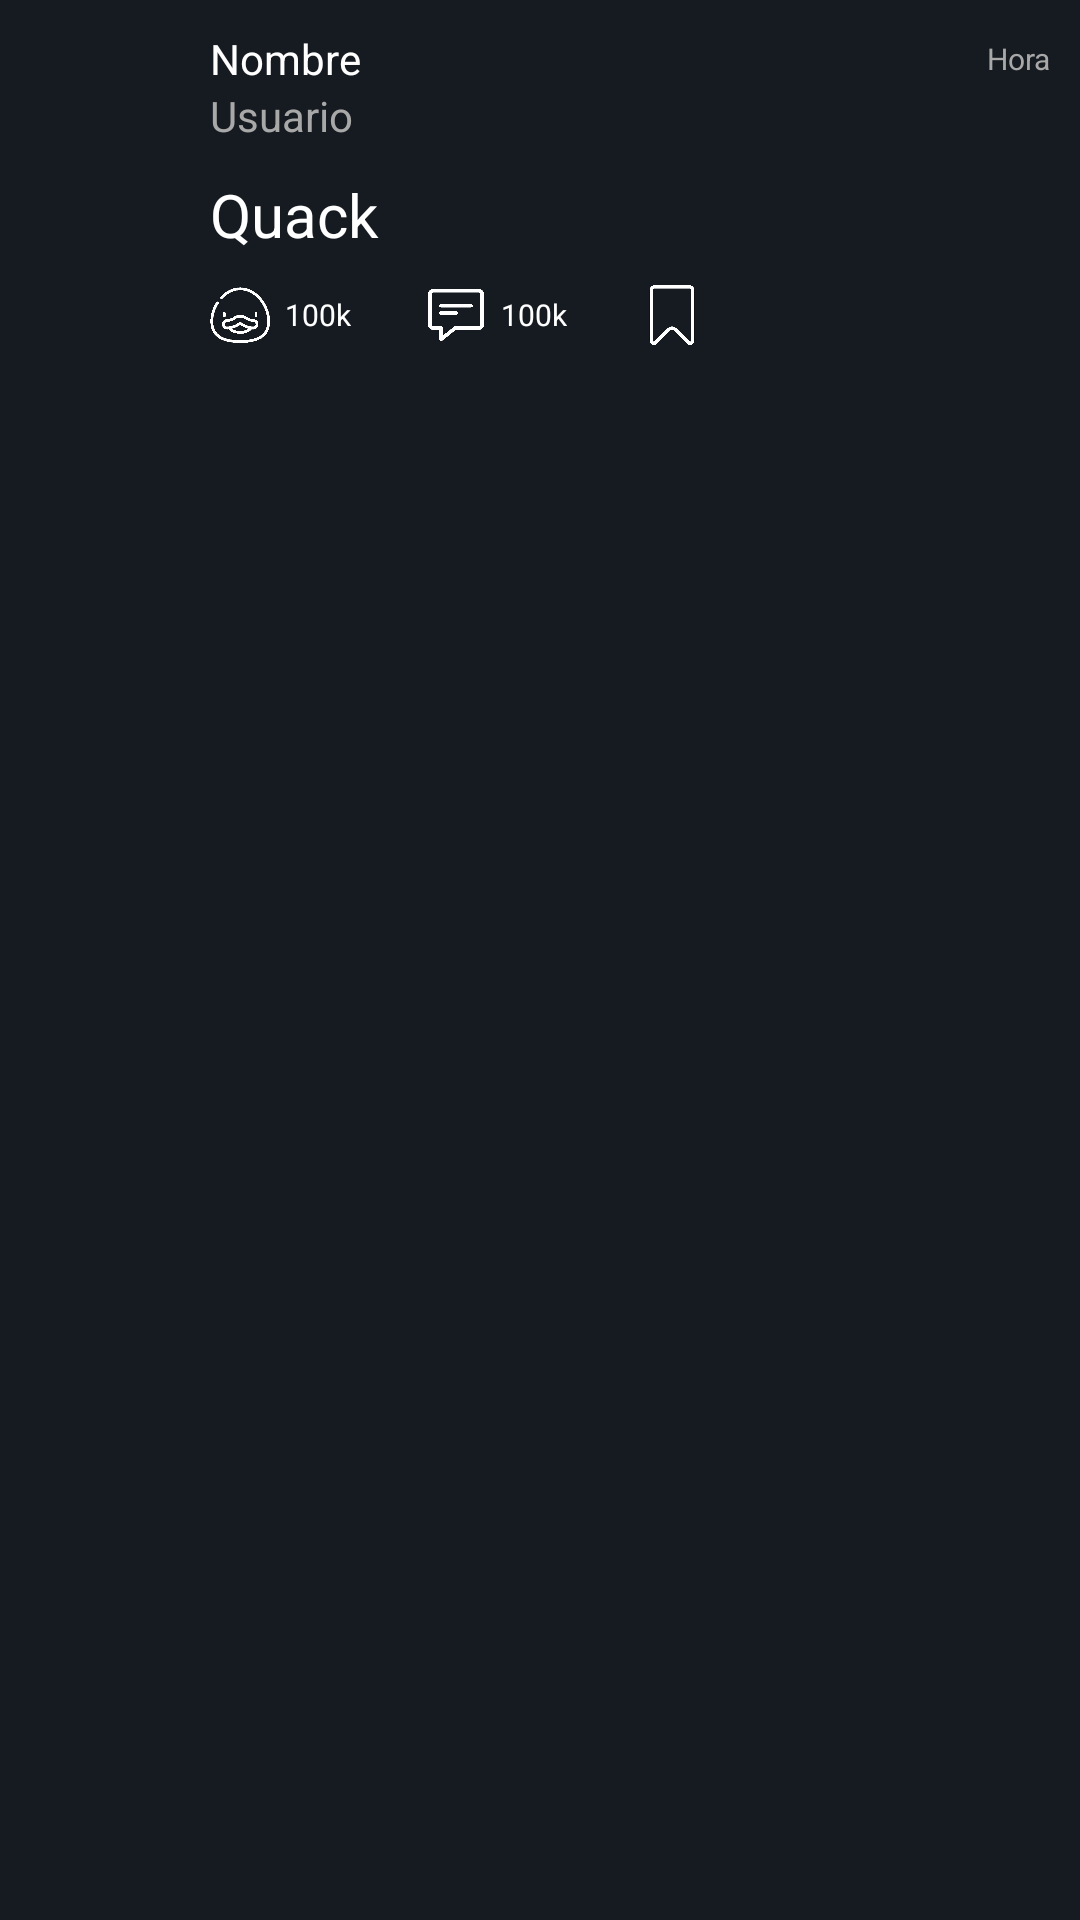

Screen size 1080x1920. Icon name, then its center in pixels as (x=x, y=y):
comment: (x=456, y=315)
not saved: (x=672, y=315)
